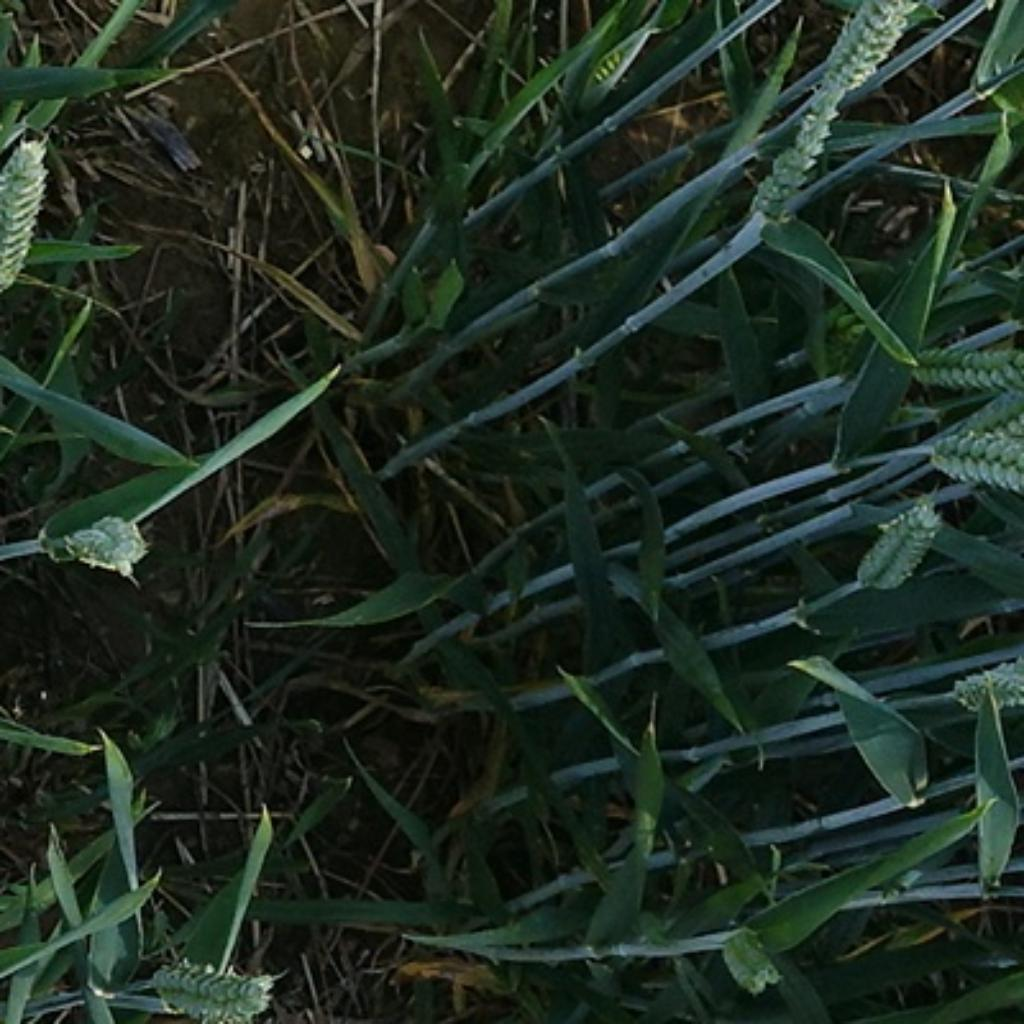0-0: (808, 2, 921, 117), (742, 97, 834, 227), (849, 486, 949, 591), (140, 947, 276, 1024), (0, 133, 56, 302), (55, 506, 156, 574), (926, 424, 1024, 491), (898, 337, 1024, 384), (711, 921, 785, 995), (942, 652, 1024, 706)
